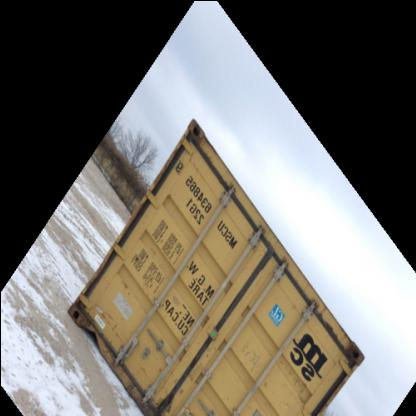Damage: (113, 347, 158, 404), (72, 303, 116, 361), (181, 117, 209, 157)
